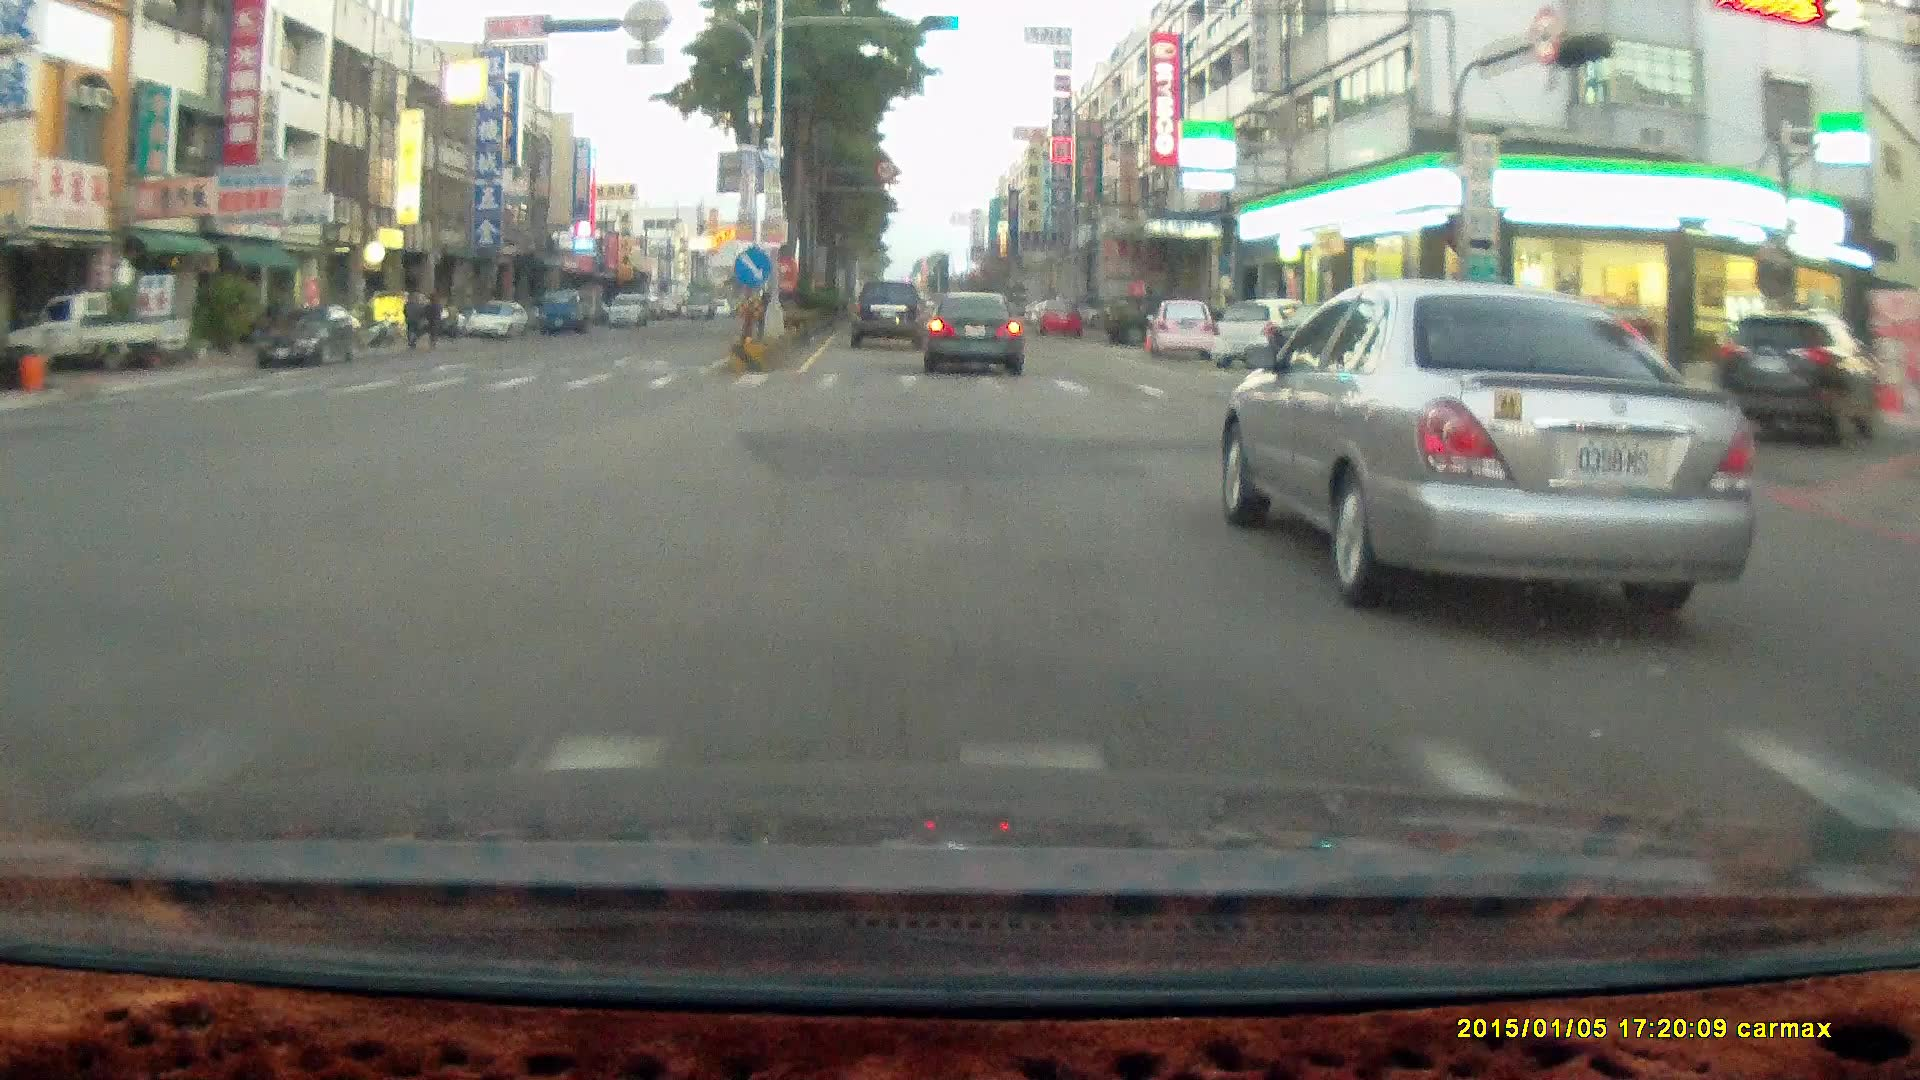pedestrian: (420, 285, 447, 351), (399, 289, 422, 352), (422, 291, 444, 353), (400, 291, 420, 355)
vehicle: (1227, 285, 1762, 603), (1719, 314, 1881, 448), (7, 293, 190, 374), (25, 300, 181, 384), (1275, 300, 1414, 388), (925, 295, 1027, 378), (1209, 298, 1325, 369), (924, 291, 1022, 374), (252, 308, 365, 374), (254, 308, 360, 369), (849, 280, 930, 353), (848, 279, 925, 349), (1145, 300, 1219, 364), (1145, 301, 1216, 362), (1104, 296, 1181, 348), (466, 302, 531, 345), (536, 294, 592, 338), (464, 304, 527, 342), (537, 287, 584, 334), (1034, 295, 1081, 333), (606, 293, 649, 328)
